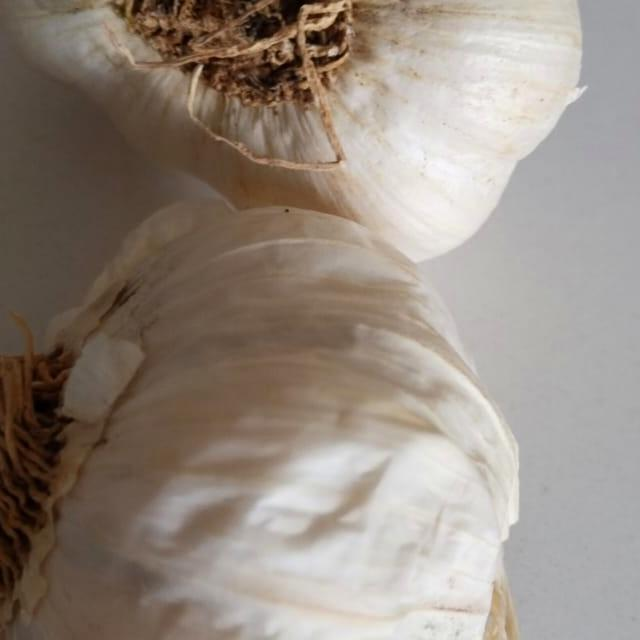garlic: (0, 167, 640, 640), (0, 0, 640, 232)
